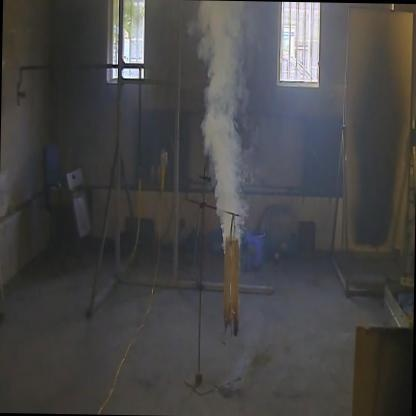smoke: (189, 5, 260, 313)
